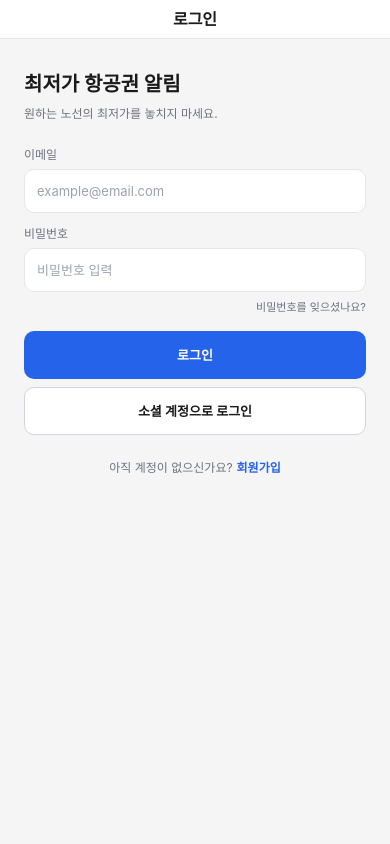
Test: 인증 흐름 (통합) › 로그인하면 홈 화면으로 진입한다
Expected: the text "아직 계정이 없으신가요?" is shown, [109,459,233,476]
Type "test@example.com" into the field with placeholder "example@email.com". click: (195, 191)
box: [24,169,366,213]
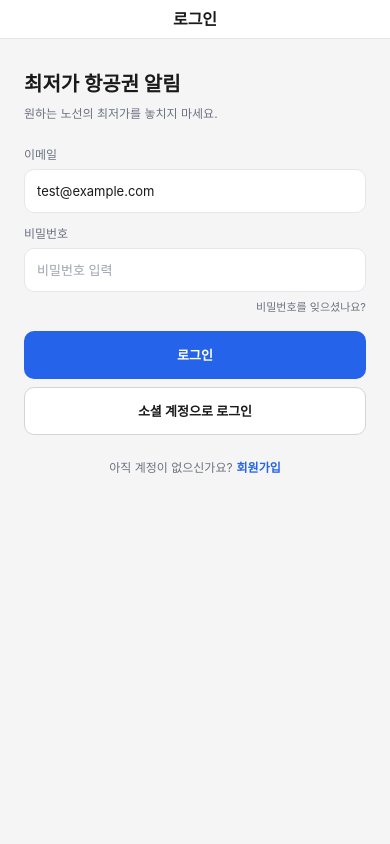
Type "password" into the password field with placeholder "비밀번호 입력". click: (195, 270)
box: [24,248,366,292]
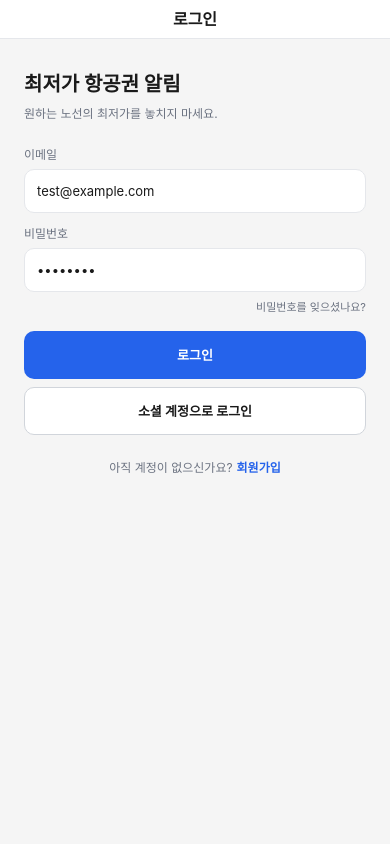
Click the button "로그인". click: (195, 355)
box: [24,331,366,379]
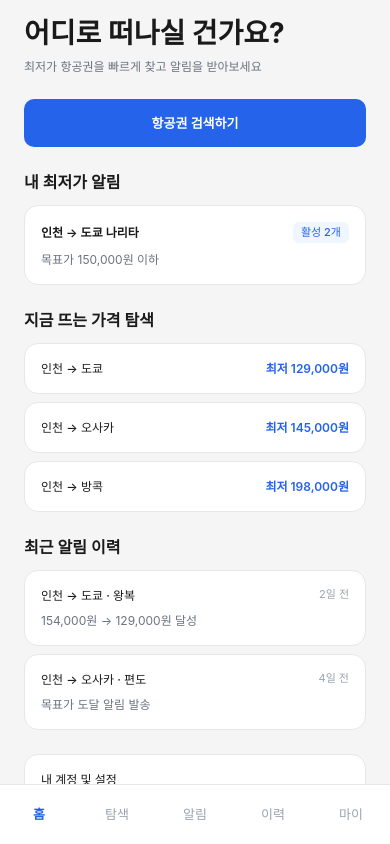
Now the text "어디로 떠나실 건가요?" is shown, box [24,16,285,50]
